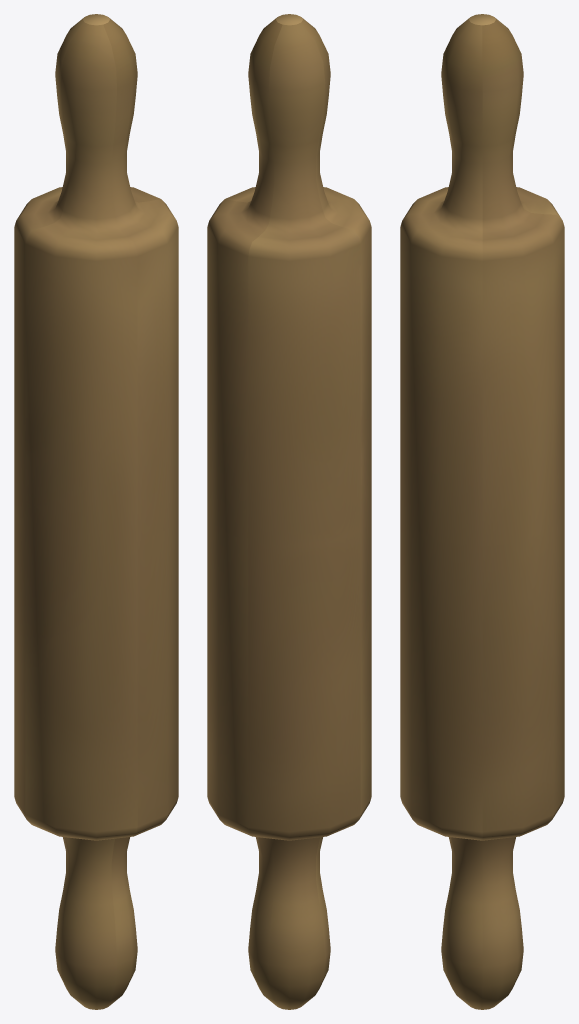
File: Rolling Pin.fbx
3 renders of one model, left to right at view 1: azimuth 30°, elevation 25°; view 2: azimuth 150°, elevation 25°; view 3: azimuth 270°, elevation 25°, orthographic.
Visible parts, largest first — view 1: Cylinder.001; view 2: Cylinder.001; view 3: Cylinder.001.
Boxes of the visible parts, bbox=[...] form: Cylinder.001: bbox=[14, 14, 178, 1009]; Cylinder.001: bbox=[207, 14, 371, 1009]; Cylinder.001: bbox=[400, 14, 564, 1009].
Size of the model in its own units: 0.105 by 0.6954 by 0.105.
1 material, 1 textured.
